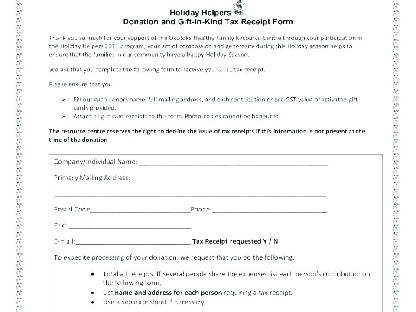textline: (52, 182, 329, 198), (138, 156, 331, 168), (66, 217, 193, 231), (74, 233, 192, 247), (211, 201, 330, 214), (88, 201, 192, 215)
